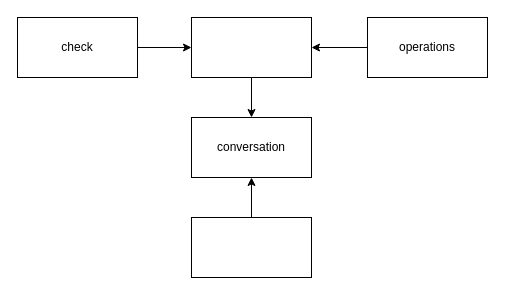
The diagram is 505 pixels wide and 295 high, and some of its shapes have lost their labels. The centre of each missing label's shape, as x and y in pixels:
"bot" belongs at (x=251, y=47).
"config" belongs at (x=251, y=247).
